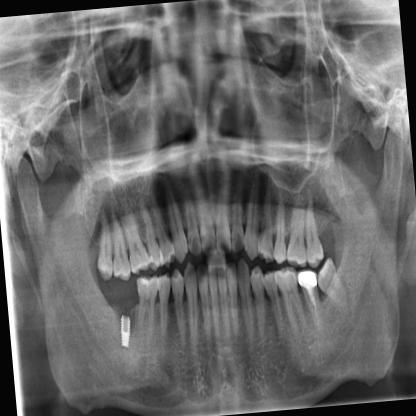Bicon: (118, 312, 134, 350)
